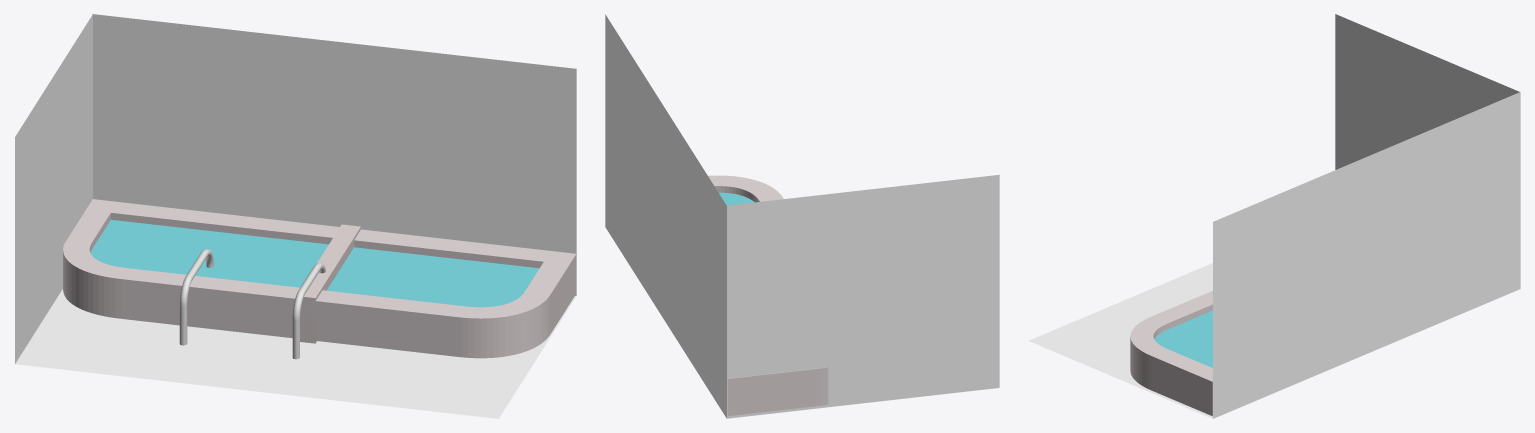
File: koumeisen.glb
The picture shows the model from 3 angles, left to right: view 1: azimuth 30°, elevation 25°; view 2: azimuth 150°, elevation 25°; view 3: azimuth 270°, elevation 25°; orthographic projection. The views are drawn at different scales.
Visible parts, largest first — view 1: 平面.001, 立方体, 平面.002, 平面.003, 立方体.001, 円柱.001, 円柱.002; view 2: 平面.003, 平面.001, 立方体; view 3: 平面.001, 平面.003, 立方体, 平面.002.
Boxes of the visible parts, x1=… form: 平面.001: x1=92, y1=14, x2=576, y2=295; 立方体: x1=63, y1=199, x2=576, y2=358; 平面.002: x1=14, y1=289, x2=576, y2=418; 平面.003: x1=15, y1=14, x2=92, y2=363; 立方体.001: x1=300, y1=224, x2=360, y2=343; 円柱.001: x1=179, y1=249, x2=213, y2=345; 円柱.002: x1=292, y1=263, x2=325, y2=359; 平面.003: x1=727, y1=174, x2=999, y2=418; 平面.001: x1=605, y1=14, x2=726, y2=418; 立方体: x1=708, y1=175, x2=828, y2=415; 平面.001: x1=1213, y1=92, x2=1520, y2=418; 平面.003: x1=1335, y1=14, x2=1519, y2=169; 立方体: x1=1130, y1=290, x2=1212, y2=416; 平面.002: x1=1029, y1=263, x2=1212, y2=418.
Size of the model in its own units: 9.05 by 4 by 9.05.
